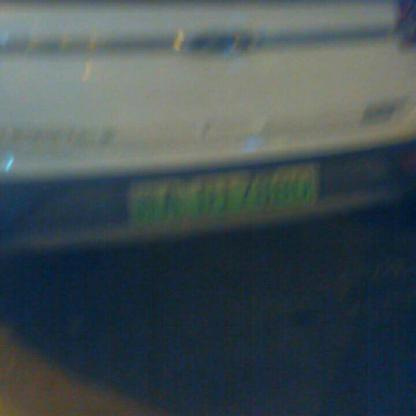lp: (132, 164, 315, 225)
